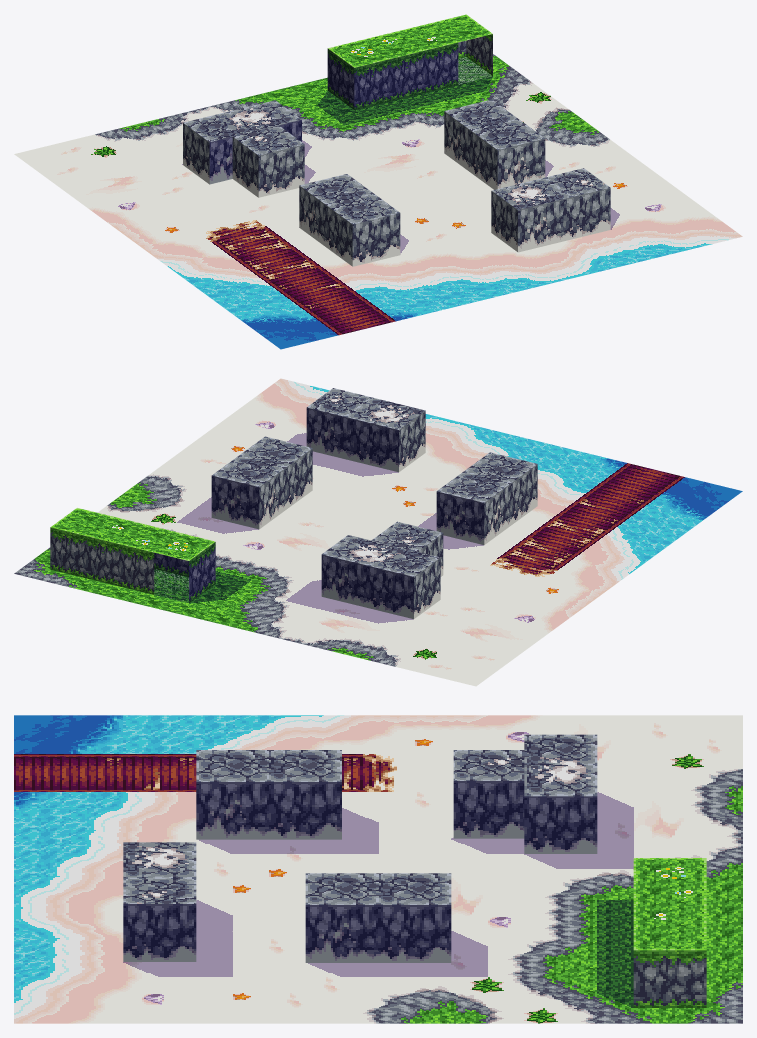
File: EmeraldBeach.gltf
3 renders of one model, top to bottom at view 1: azimuth 30°, elevation 25°; view 2: azimuth 150°, elevation 25°; view 3: azimuth 270°, elevation 25°, orthographic. The views are drawn at different scales.
Parts seen in each view (by area): view 1: plane, cube (×6); view 2: plane, cube (×6); view 3: plane, cube (×6).
Part boxes in pixels (x1,y1,x2,y2): plane: (14,54,742,349); cube (×6): (183,14,610,266); plane: (14,378,742,686); cube (×6): (50,388,537,619); plane: (14,715,742,1023); cube (×6): (123,734,706,1007).
Bounding box in the file's own units: 5 × 0.4375 × 5.
7 materials, 4 textured.
